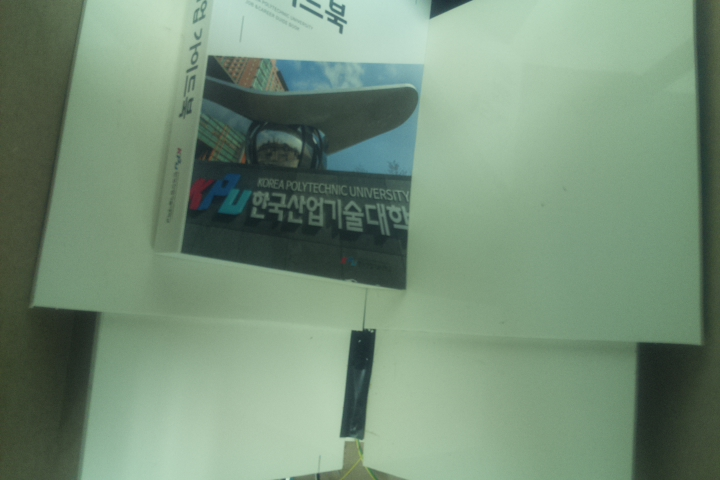book: (145, 1, 435, 294)
